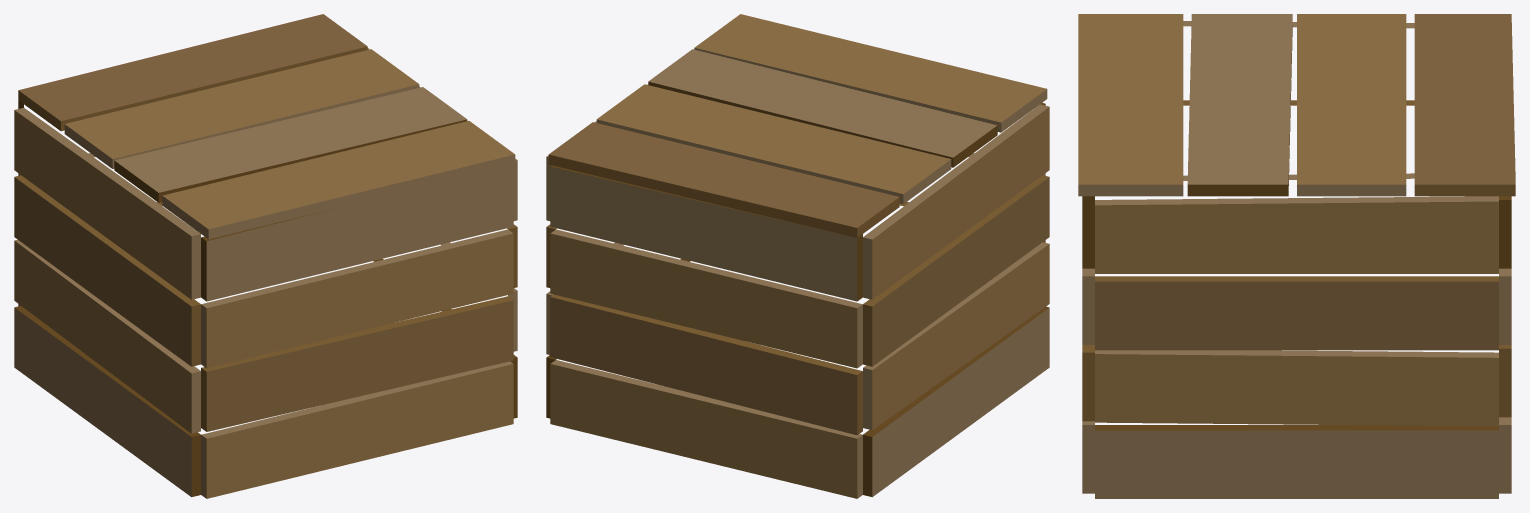
3 renders of one model, left to right at view 1: azimuth 30°, elevation 25°; view 2: azimuth 150°, elevation 25°; view 3: azimuth 270°, elevation 25°, orthographic. The views are drawn at different scales.
Bounding box in the file's own units: 102 × 81 × 104.
Materials: 1 (1 with a texture image).
